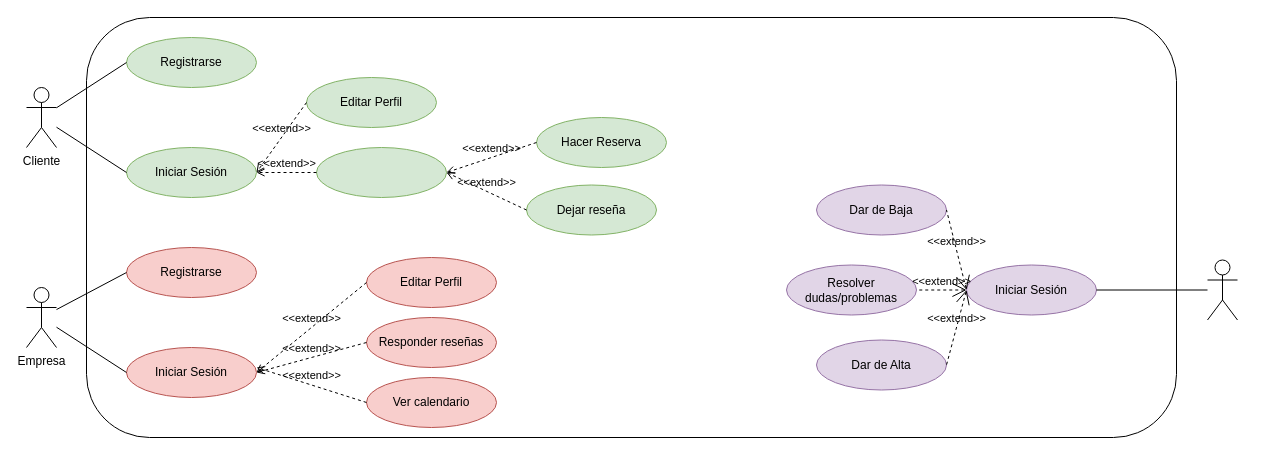
Some shapes in this 1276 by 455 pixel diagram are drawn without their labels. Each missing label, with the centre of its shape:
Administrador: point 1222,289
Buscar Local: point 381,172
